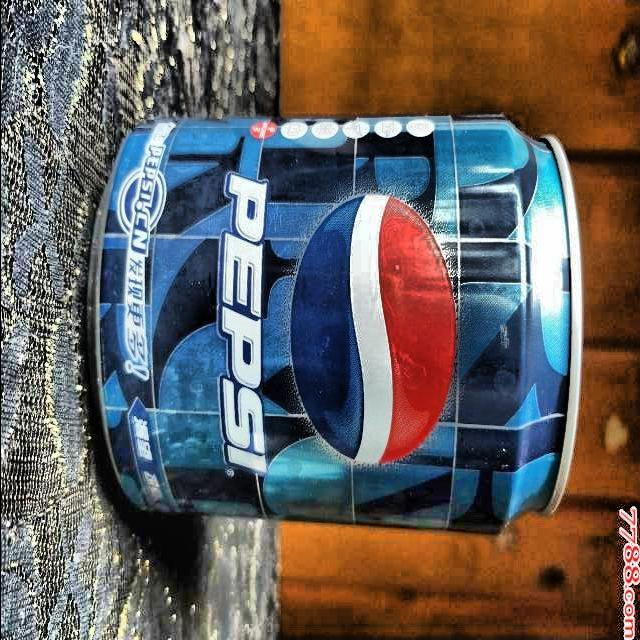litter: (76, 106, 587, 537)
